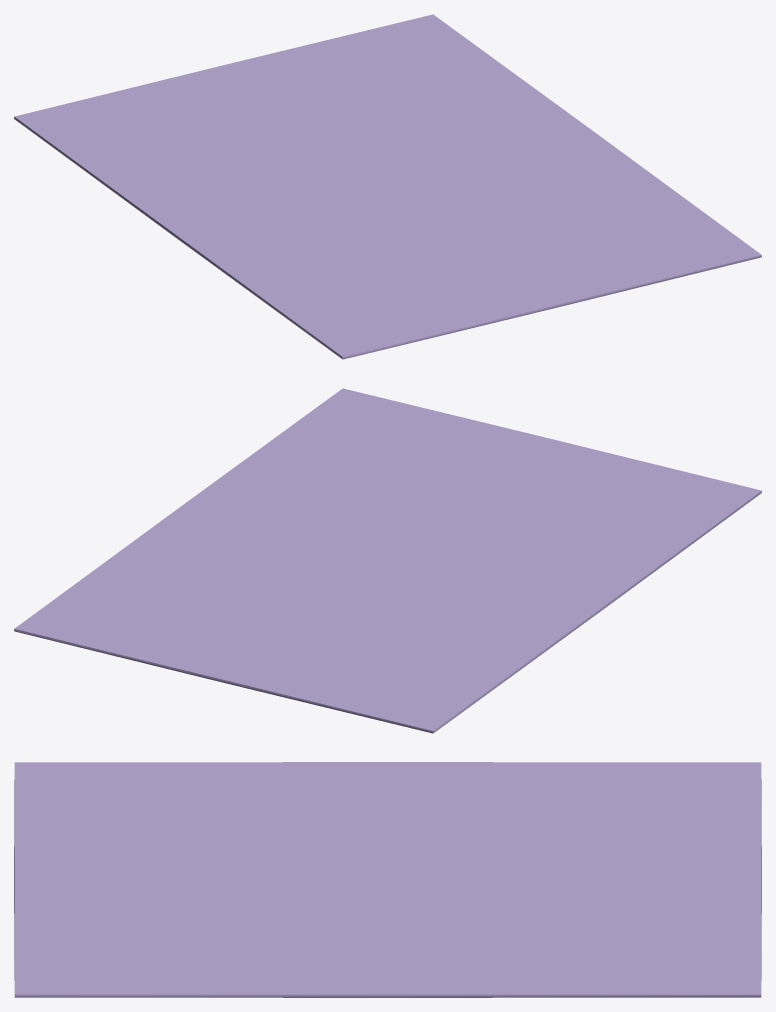
The model's file is rug-meeting-corner.glb.
3 renders of one model, top to bottom at view 1: azimuth 30°, elevation 25°; view 2: azimuth 150°, elevation 25°; view 3: azimuth 270°, elevation 25°, orthographic. The views are drawn at different scales.
Parts seen in each view (by area): view 1: flat-rug; view 2: flat-rug; view 3: flat-rug.
Part boxes in pixels (x1,y1,x2,y2): flat-rug: (14, 14, 761, 359); flat-rug: (14, 388, 761, 733); flat-rug: (14, 762, 761, 997).
Size of the model in its own units: 2.8 by 0.025 by 3.8.
Materials: 1 (1 with a texture image).
